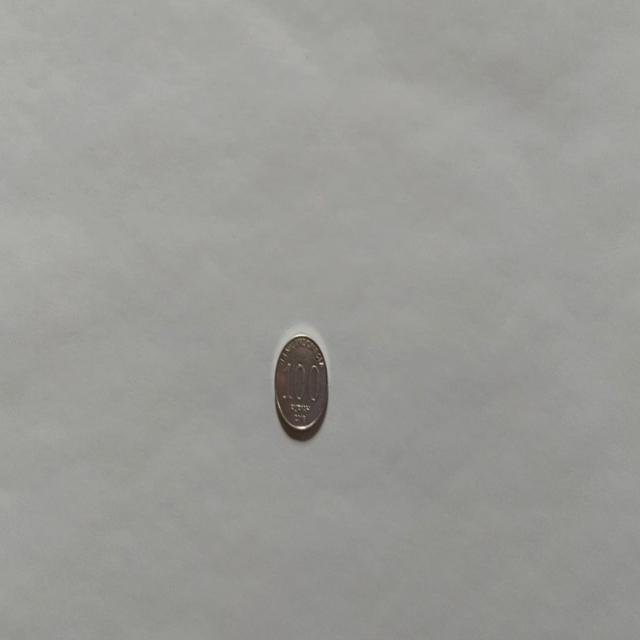seratus rupiah: (273, 332, 329, 438)
